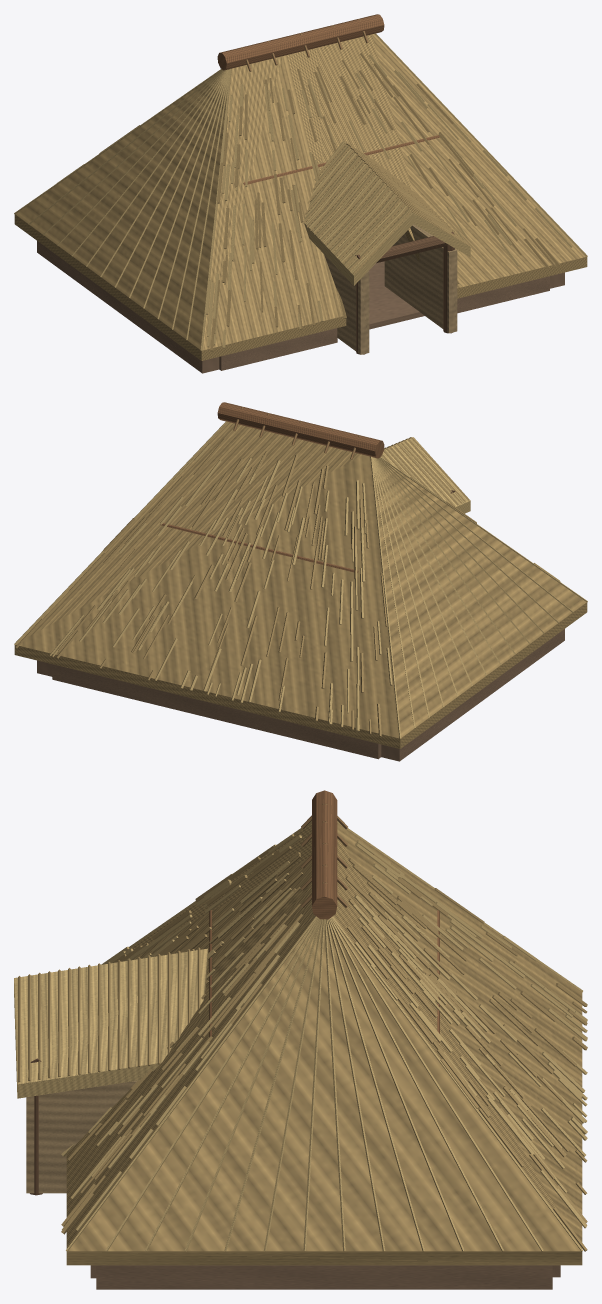
File: wa_house.glb
3 renders of one model, top to bottom at view 1: azimuth 30°, elevation 25°; view 2: azimuth 150°, elevation 25°; view 3: azimuth 270°, elevation 25°, orthographic. The views are drawn at different scales.
Visible parts, largest first — view 1: wa_house; view 2: wa_house; view 3: wa_house.
Part boxes in pixels (left/top/right/bottom): wa_house: left=14, top=14, right=587, bottom=373; wa_house: left=14, top=402, right=587, bottom=761; wa_house: left=14, top=790, right=587, bottom=1289.
Size of the model in its own units: 5.5 by 3.2 by 5.12.
1 material, 1 textured.
